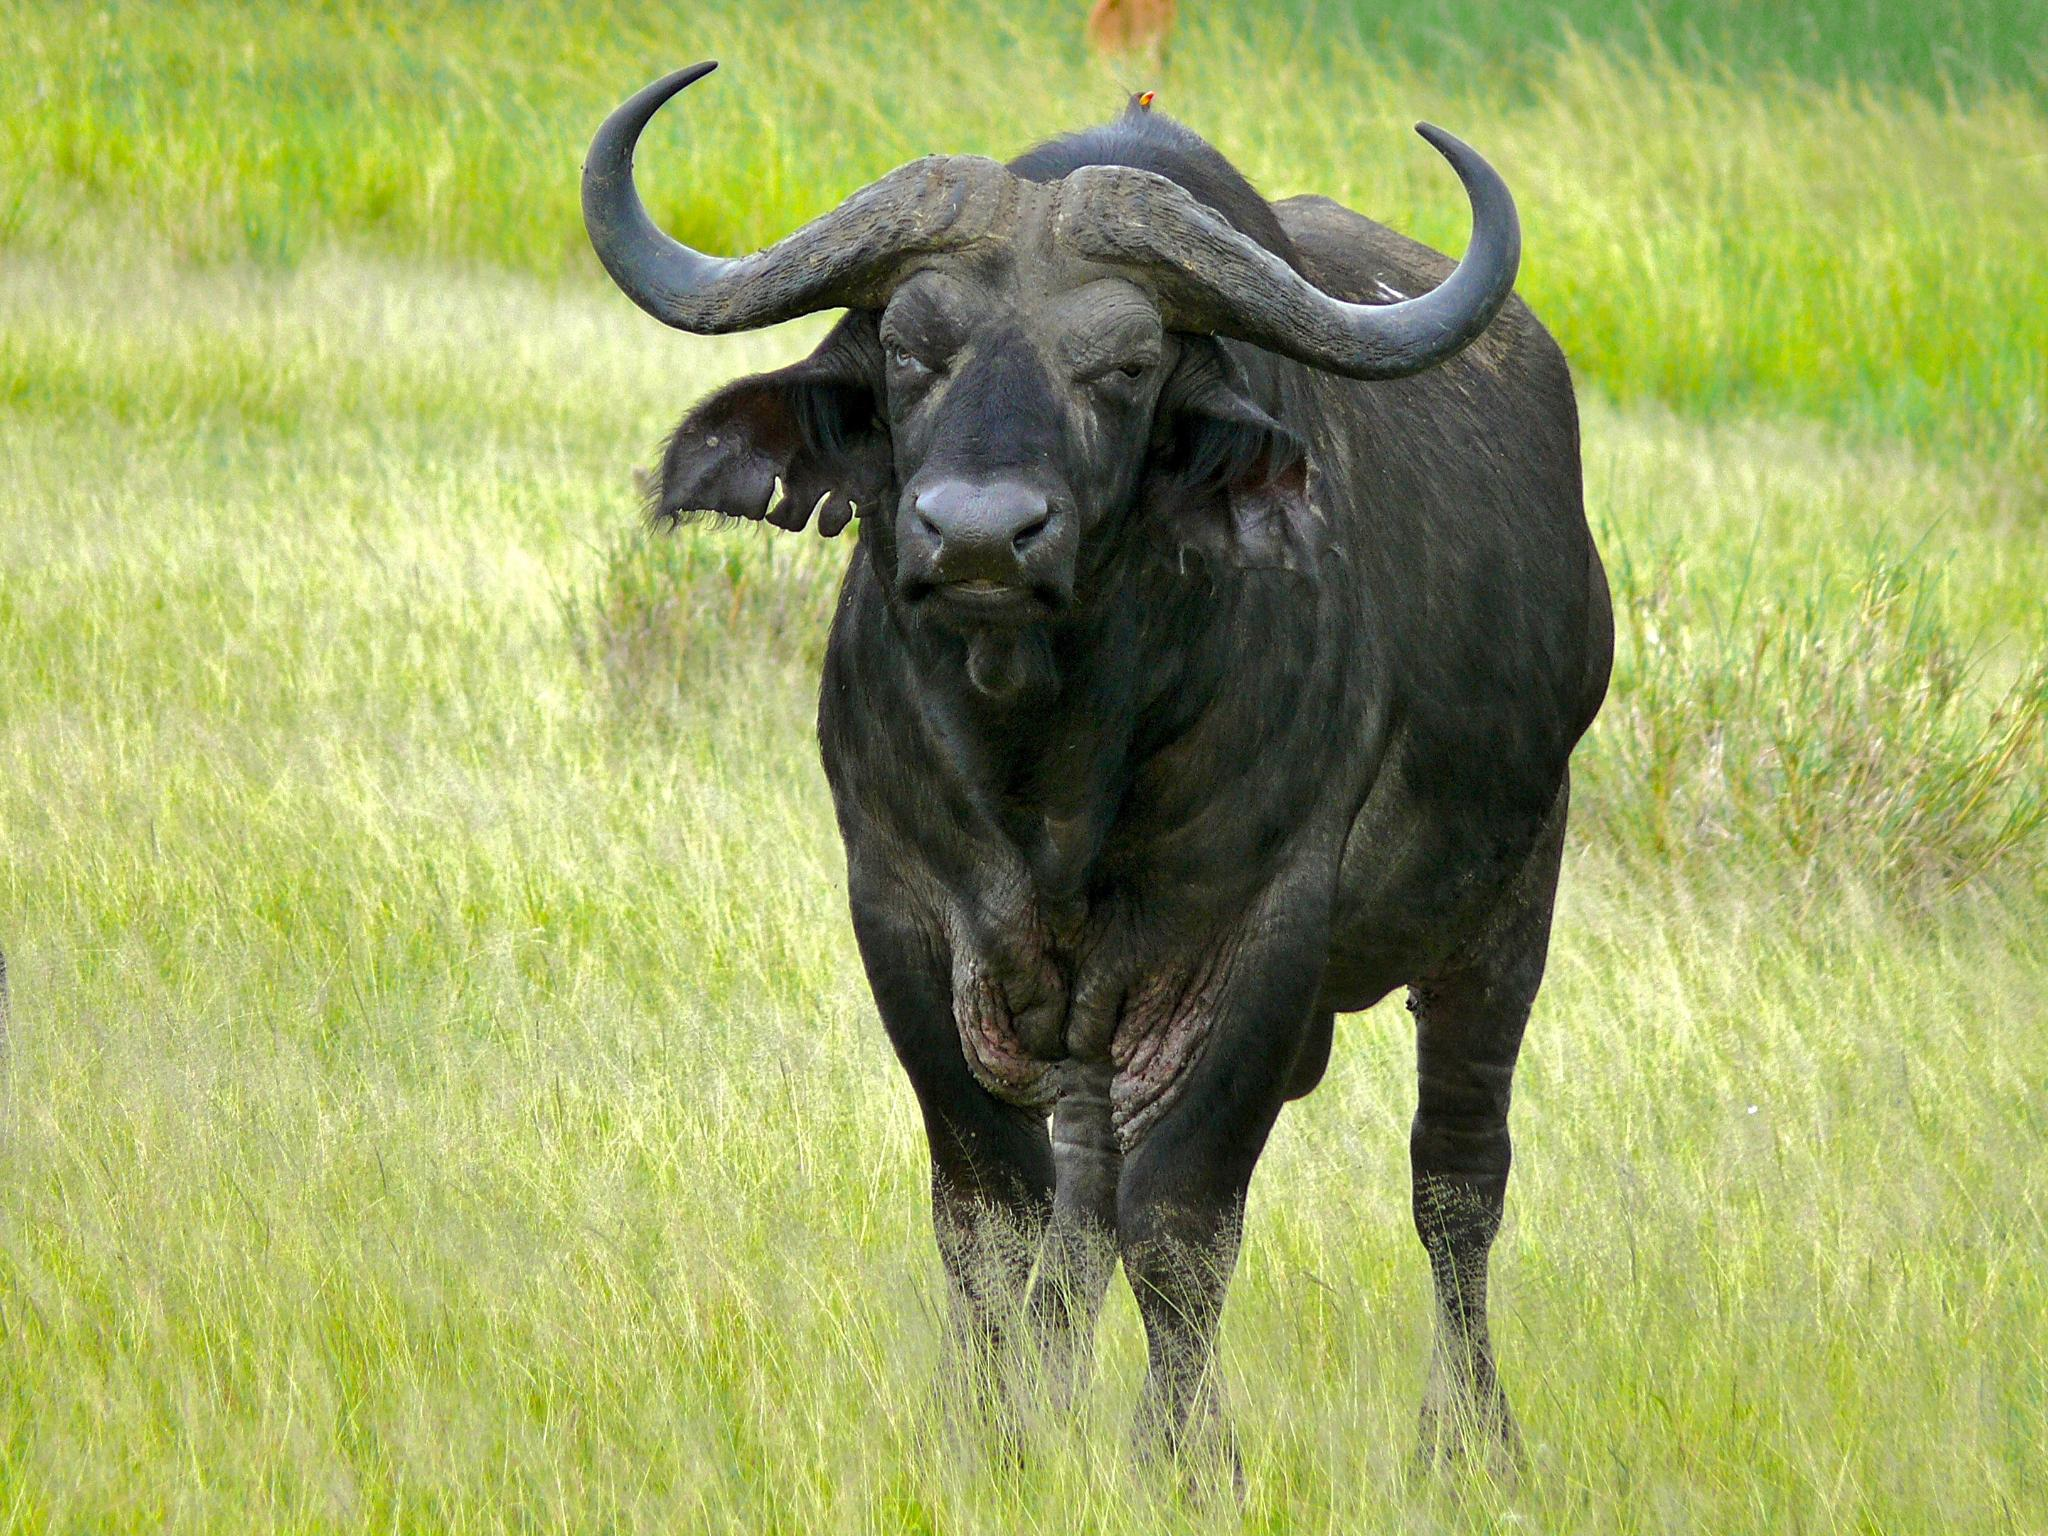Buffalo: (0, 8, 2048, 1536)
